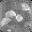people: (1, 17, 12, 27), (5, 10, 17, 18), (15, 14, 23, 22)
